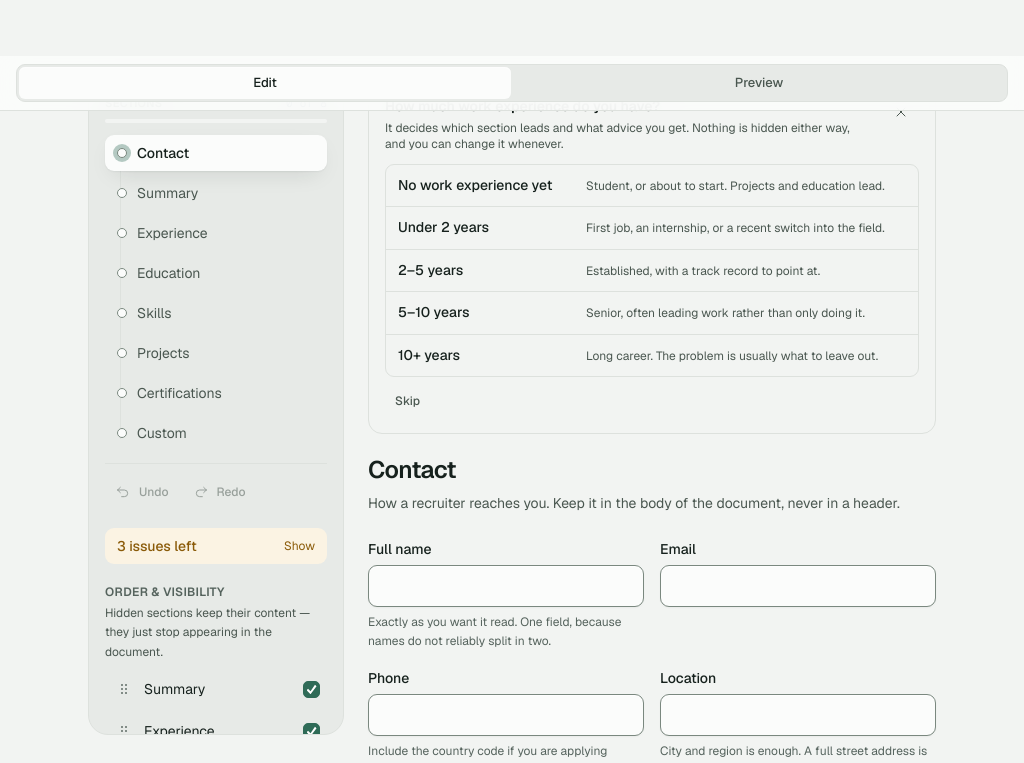
navigation › renders every section as a freely reachable step, not a locked wizard
The image size is (1024, 763).
Expected: the heading "Contact" is shown, [368, 454, 456, 485]
Expected: the button "Contact" is enabled, [105, 135, 327, 171]
# Jump straight to the last step without touching the ones before it.
Click the button "Custom": x=216, y=433 [105, 415, 327, 451]
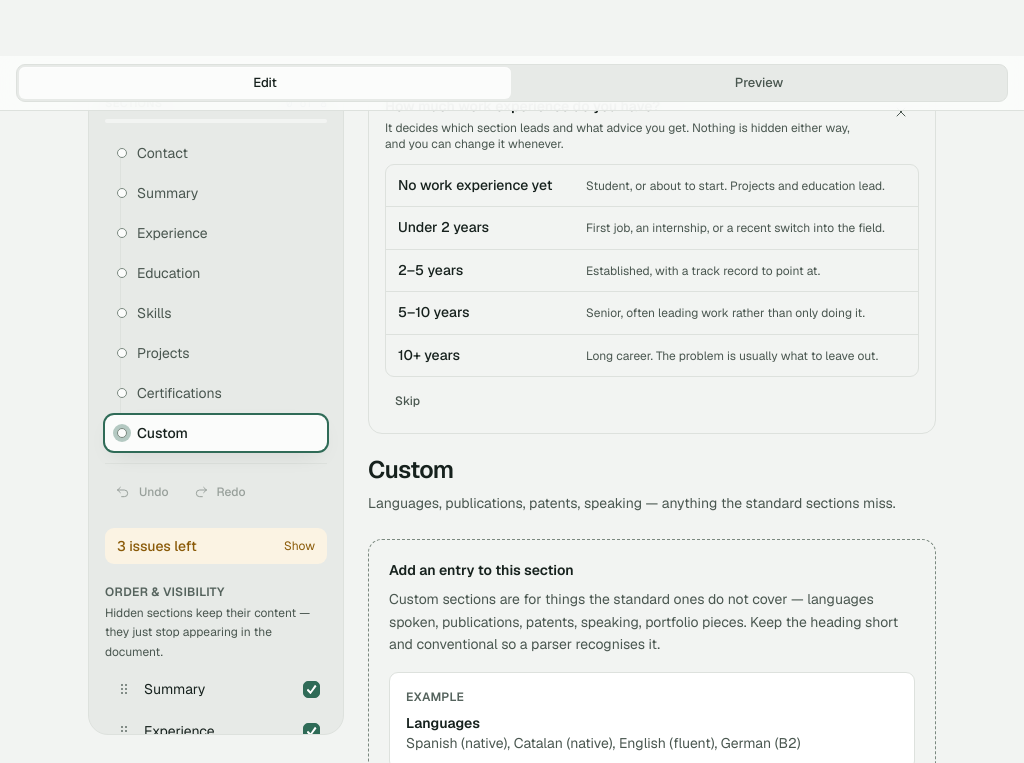
Expected: the heading "Custom" is shown, [368, 454, 454, 485]
